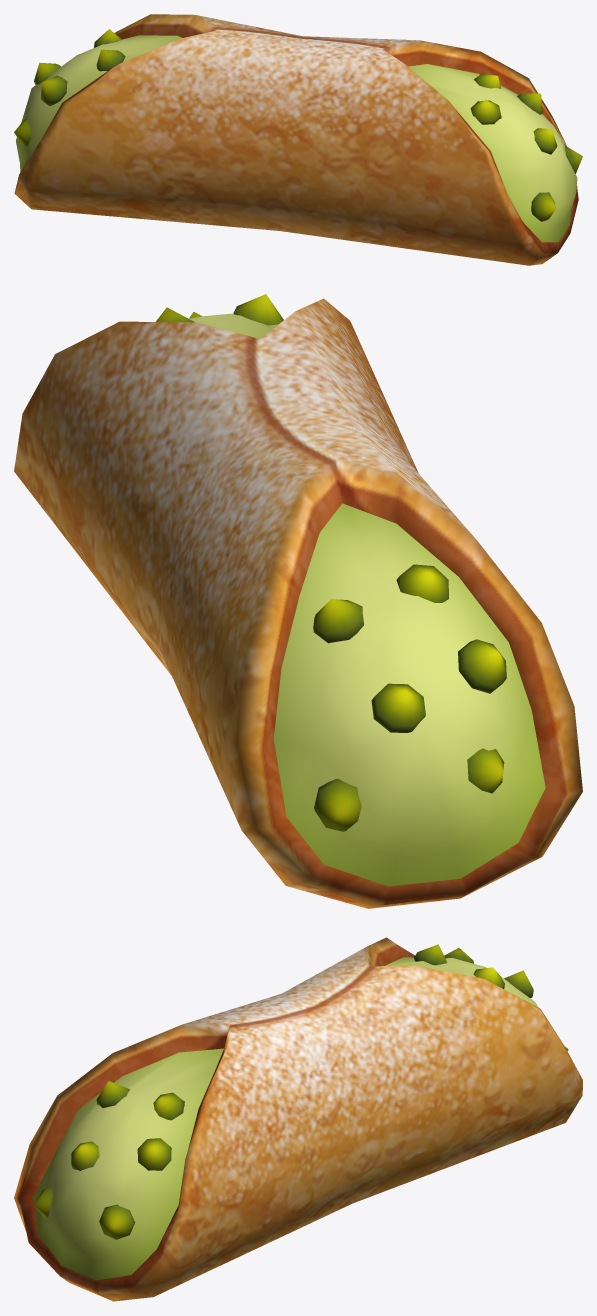
File: 009-Cannolis04.FBX
3 views of the same model, one above another, from view 1: azimuth 30°, elevation 25°; view 2: azimuth 150°, elevation 25°; view 3: azimuth 270°, elevation 25° (orthographic). The views are drawn at different scales.
Parts seen in each view (by area): view 1: 009-Cannolis04; view 2: 009-Cannolis04; view 3: 009-Cannolis04.
Part boxes in pixels (bbox=[...]): 009-Cannolis04: bbox=[14, 14, 582, 265]; 009-Cannolis04: bbox=[14, 294, 582, 908]; 009-Cannolis04: bbox=[14, 937, 582, 1301].
Size of the model in its own units: 18.09 by 7.36 by 18.09.
